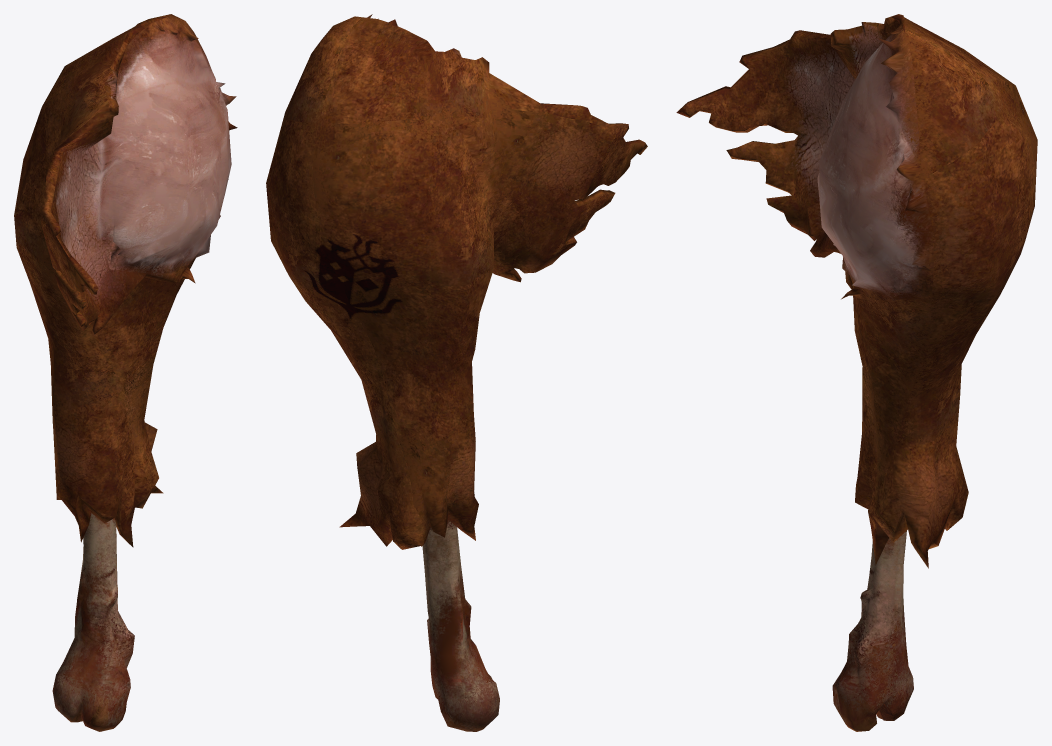
The model's file is ham029.obj.
3 renders of one model, left to right at view 1: azimuth 30°, elevation 25°; view 2: azimuth 150°, elevation 25°; view 3: azimuth 270°, elevation 25°, orthographic. The views are drawn at different scales.
Visible parts, largest first — view 1: ham029_000_LOD_1; view 2: ham029_000_LOD_1; view 3: ham029_000_LOD_1.
Boxes of the visible parts, x1,y1,x2,y2 form: ham029_000_LOD_1: (14, 14, 237, 731); ham029_000_LOD_1: (266, 14, 647, 731); ham029_000_LOD_1: (676, 14, 1037, 731).
Bounding box in the file's own units: 74.05 × 186 × 82.29.
